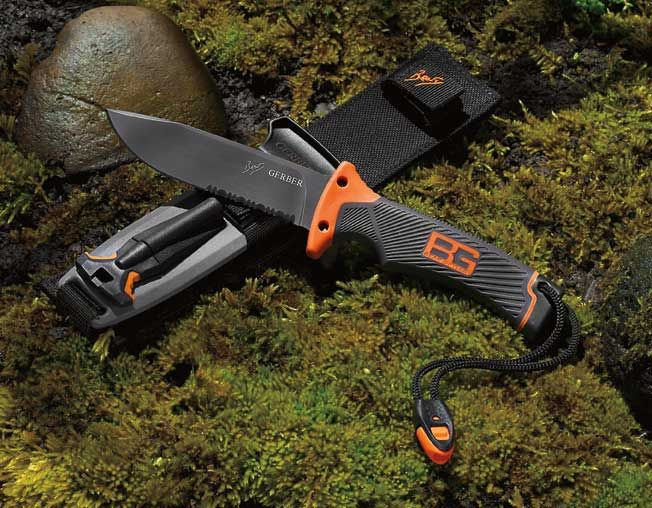knife: (102, 101, 578, 347)
